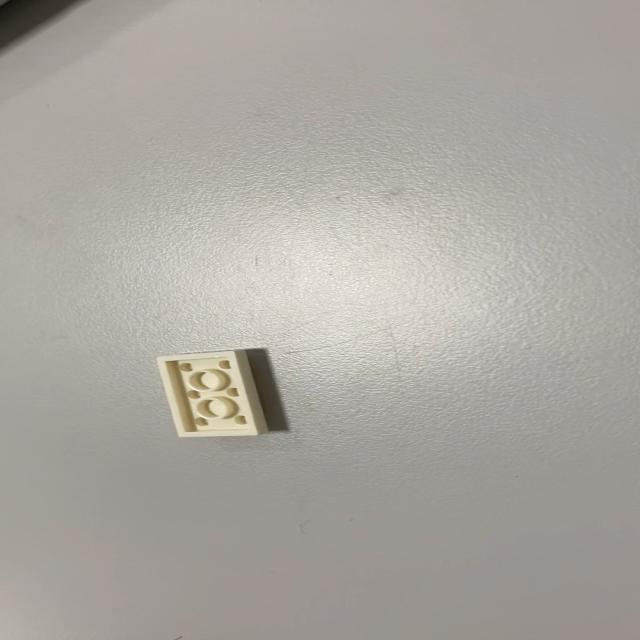C3x2x0: (155, 348, 269, 438)
